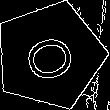O_E: (17, 26, 82, 85)
